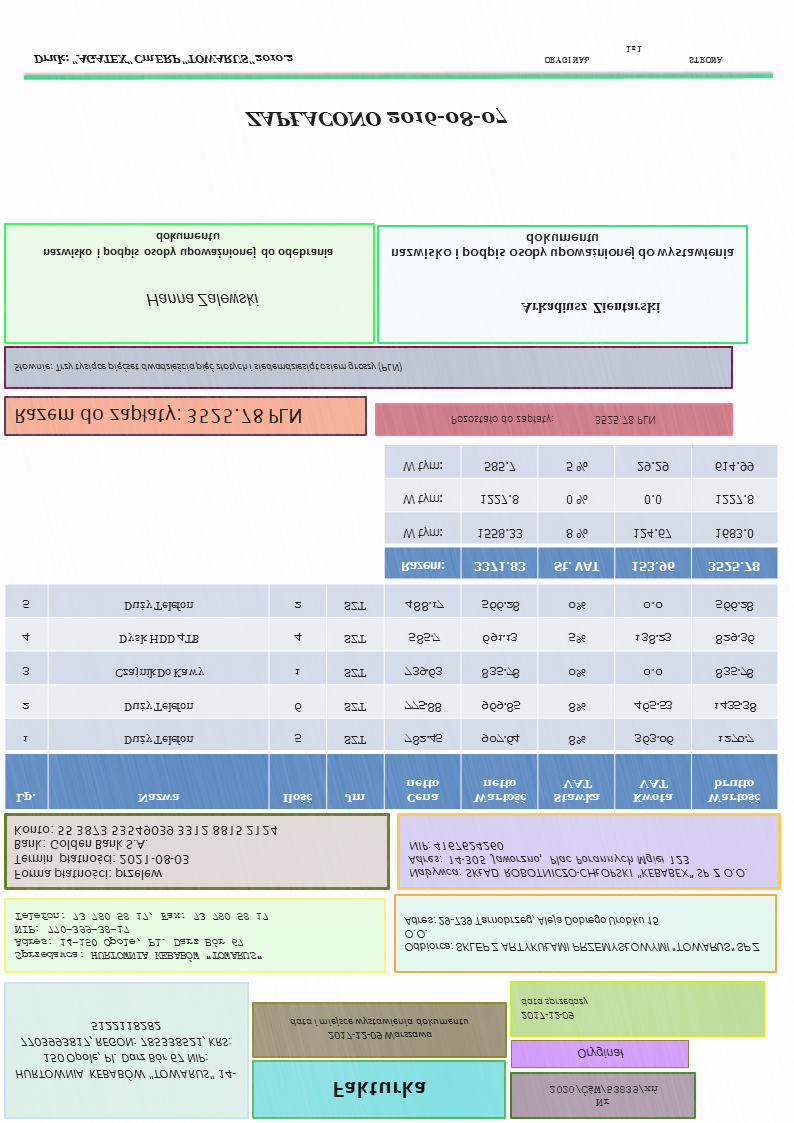Table: (3, 582, 780, 812), (382, 446, 779, 582)
TextBox: (399, 909, 763, 959), (403, 835, 751, 885), (9, 823, 280, 883), (12, 1015, 239, 1085), (9, 907, 272, 967), (387, 231, 739, 267), (38, 228, 339, 265), (8, 403, 305, 434), (242, 103, 512, 135), (8, 358, 406, 379), (284, 1014, 472, 1047), (29, 47, 300, 69), (541, 40, 725, 69), (445, 410, 662, 432), (547, 1081, 663, 1112), (518, 295, 665, 319), (141, 287, 261, 316), (326, 1078, 429, 1104), (517, 991, 591, 1025), (574, 1045, 628, 1064)
